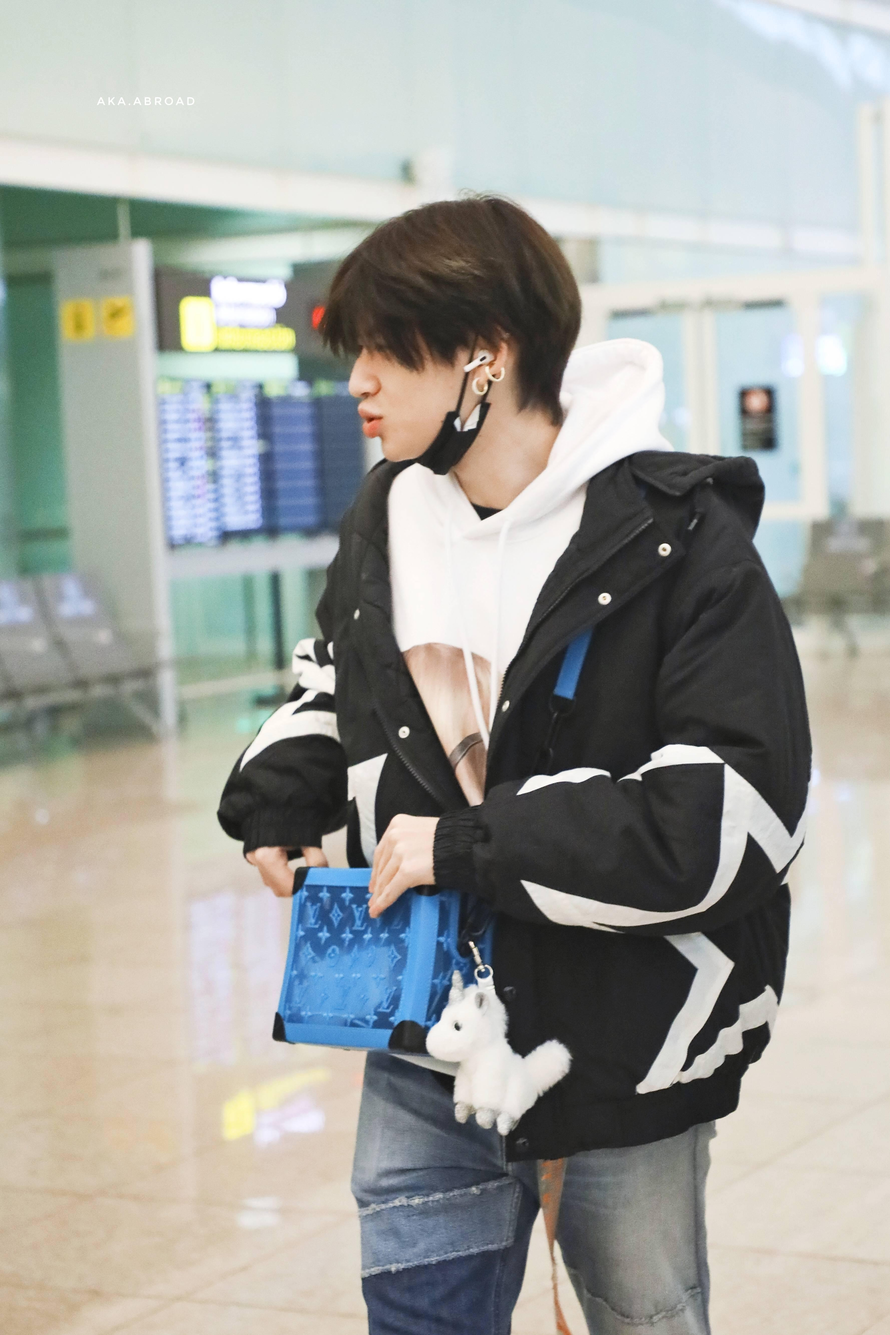WRONG: (347, 317, 462, 473)
